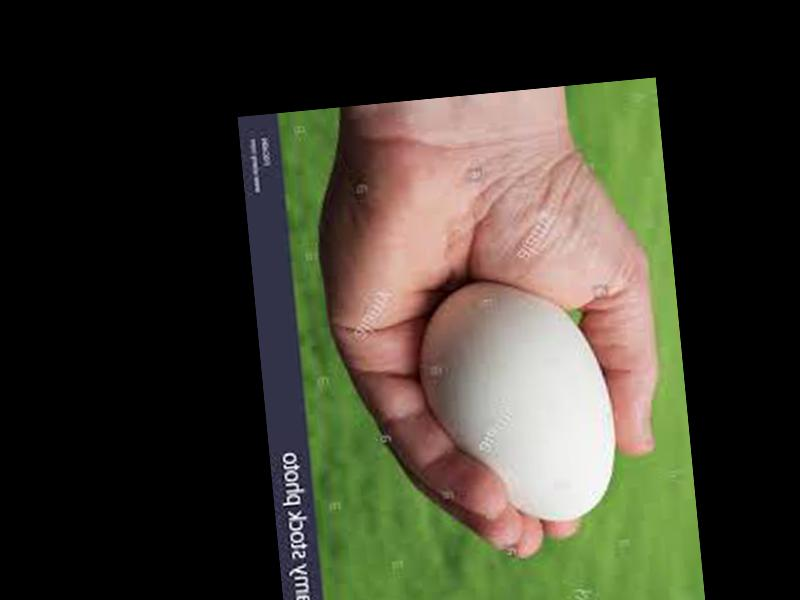Eggs: (411, 266, 624, 531)
